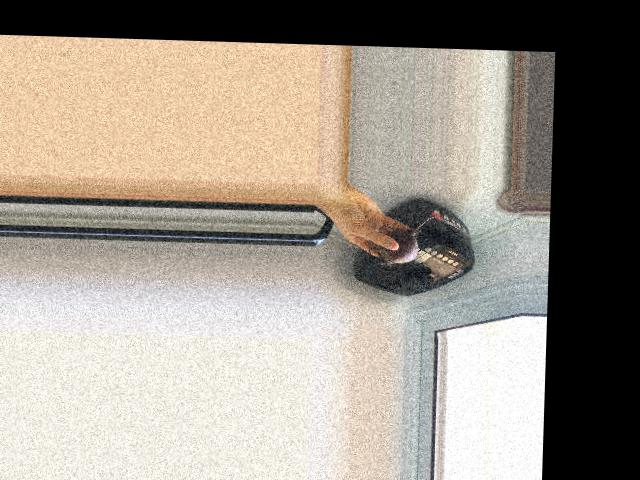beet: (368, 214, 434, 267)
